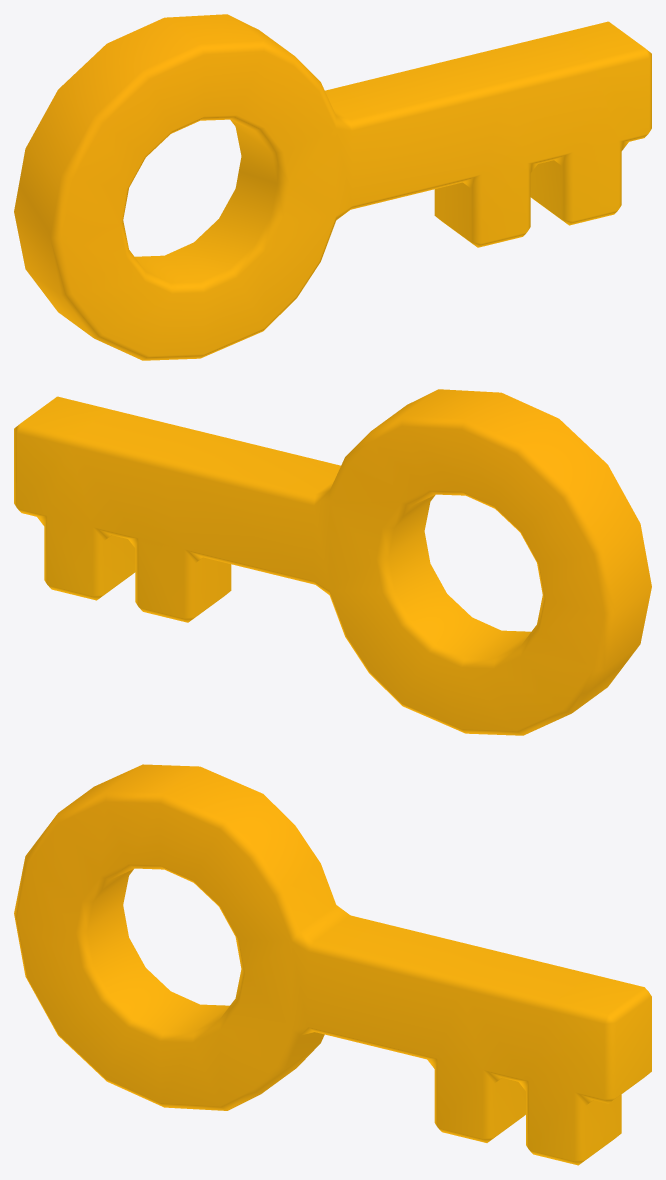
The model's file is Key_02.glb.
3 views of the same model, one above another, from view 1: azimuth 30°, elevation 25°; view 2: azimuth 150°, elevation 25°; view 3: azimuth 330°, elevation 25° (orthographic).
Parts seen in each view (by area): view 1: Key_02; view 2: Key_02; view 3: Key_02.
Part boxes in pixels (<box>): Key_02: <box>14,14,651,360</box>; Key_02: <box>14,389,651,735</box>; Key_02: <box>14,764,651,1165</box>.
Size of the model in its own units: 1.29 by 0.6441 by 0.1647.
Materials: 1 (1 with a texture image).
